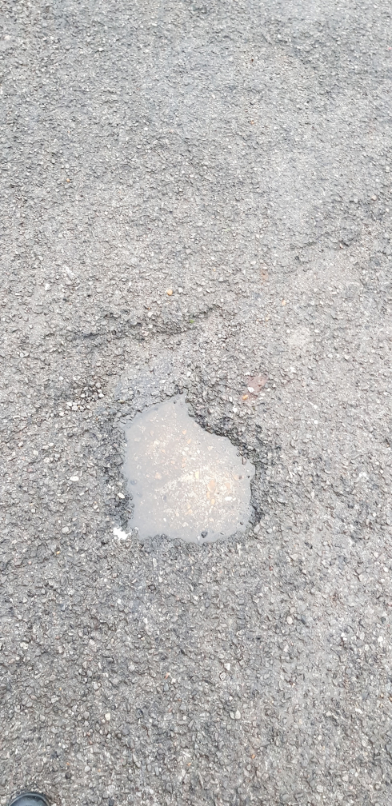pothole: (100, 377, 263, 551)
